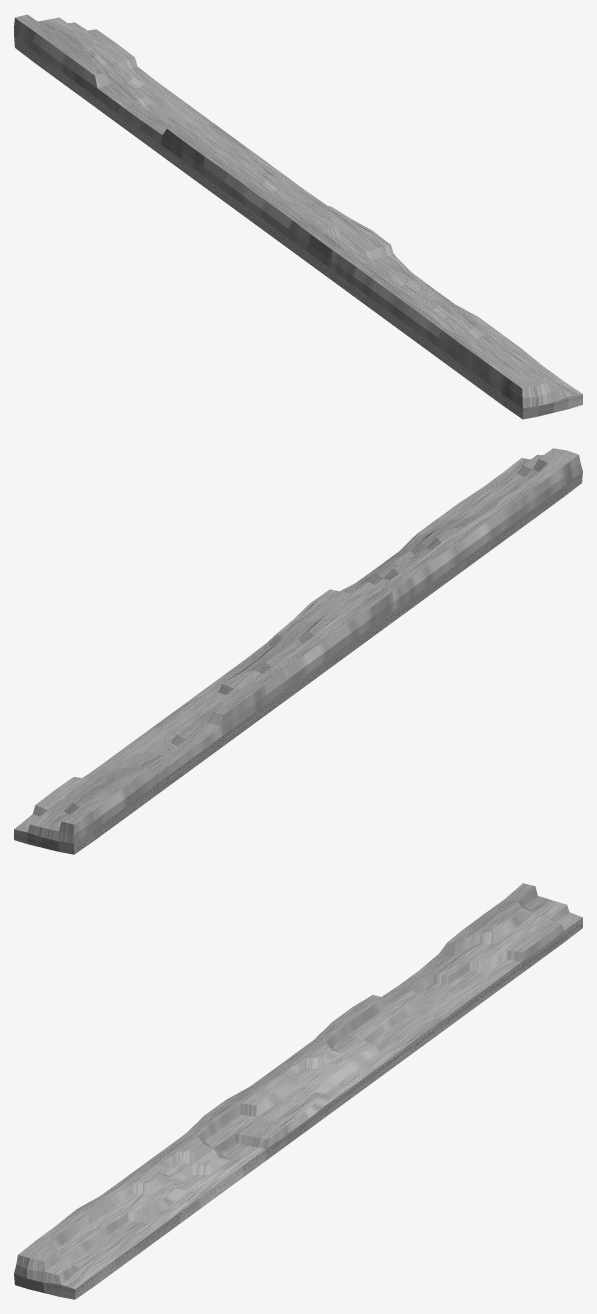
Rendered from SideGround.obj.
3 renders of one model, top to bottom at view 1: azimuth 30°, elevation 25°; view 2: azimuth 150°, elevation 25°; view 3: azimuth 330°, elevation 25°, orthographic.
Parts seen in each view (by area): view 1: 立方体; view 2: 立方体; view 3: 立方体.
Part boxes in pixels (left/top/right/bottom): 立方体: left=14, top=14, right=582, bottom=419; 立方体: left=14, top=448, right=582, bottom=854; 立方体: left=14, top=883, right=582, bottom=1299.
Bounding box in the file's own units: 10 × 4.85 × 140.
